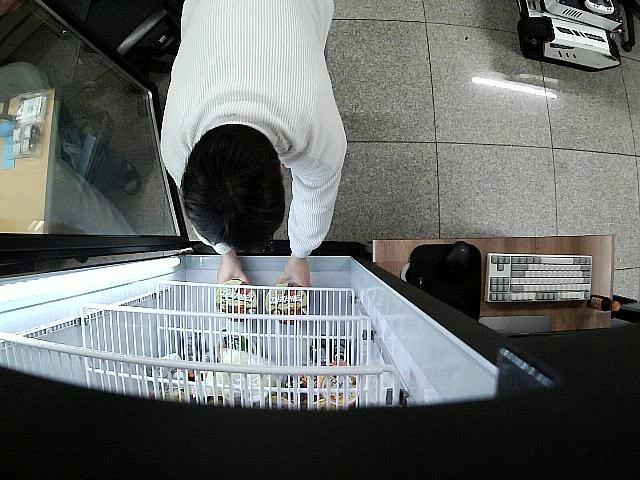00_hand: (276, 260, 312, 298), (216, 261, 251, 288)
03_chapagetti_L: (216, 281, 259, 322), (266, 283, 309, 323)
